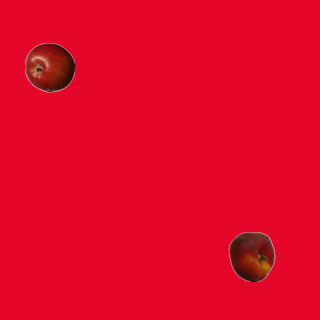Apple Braeburn: (24, 42, 74, 92)
Nectarine Flat: (226, 231, 276, 281)
